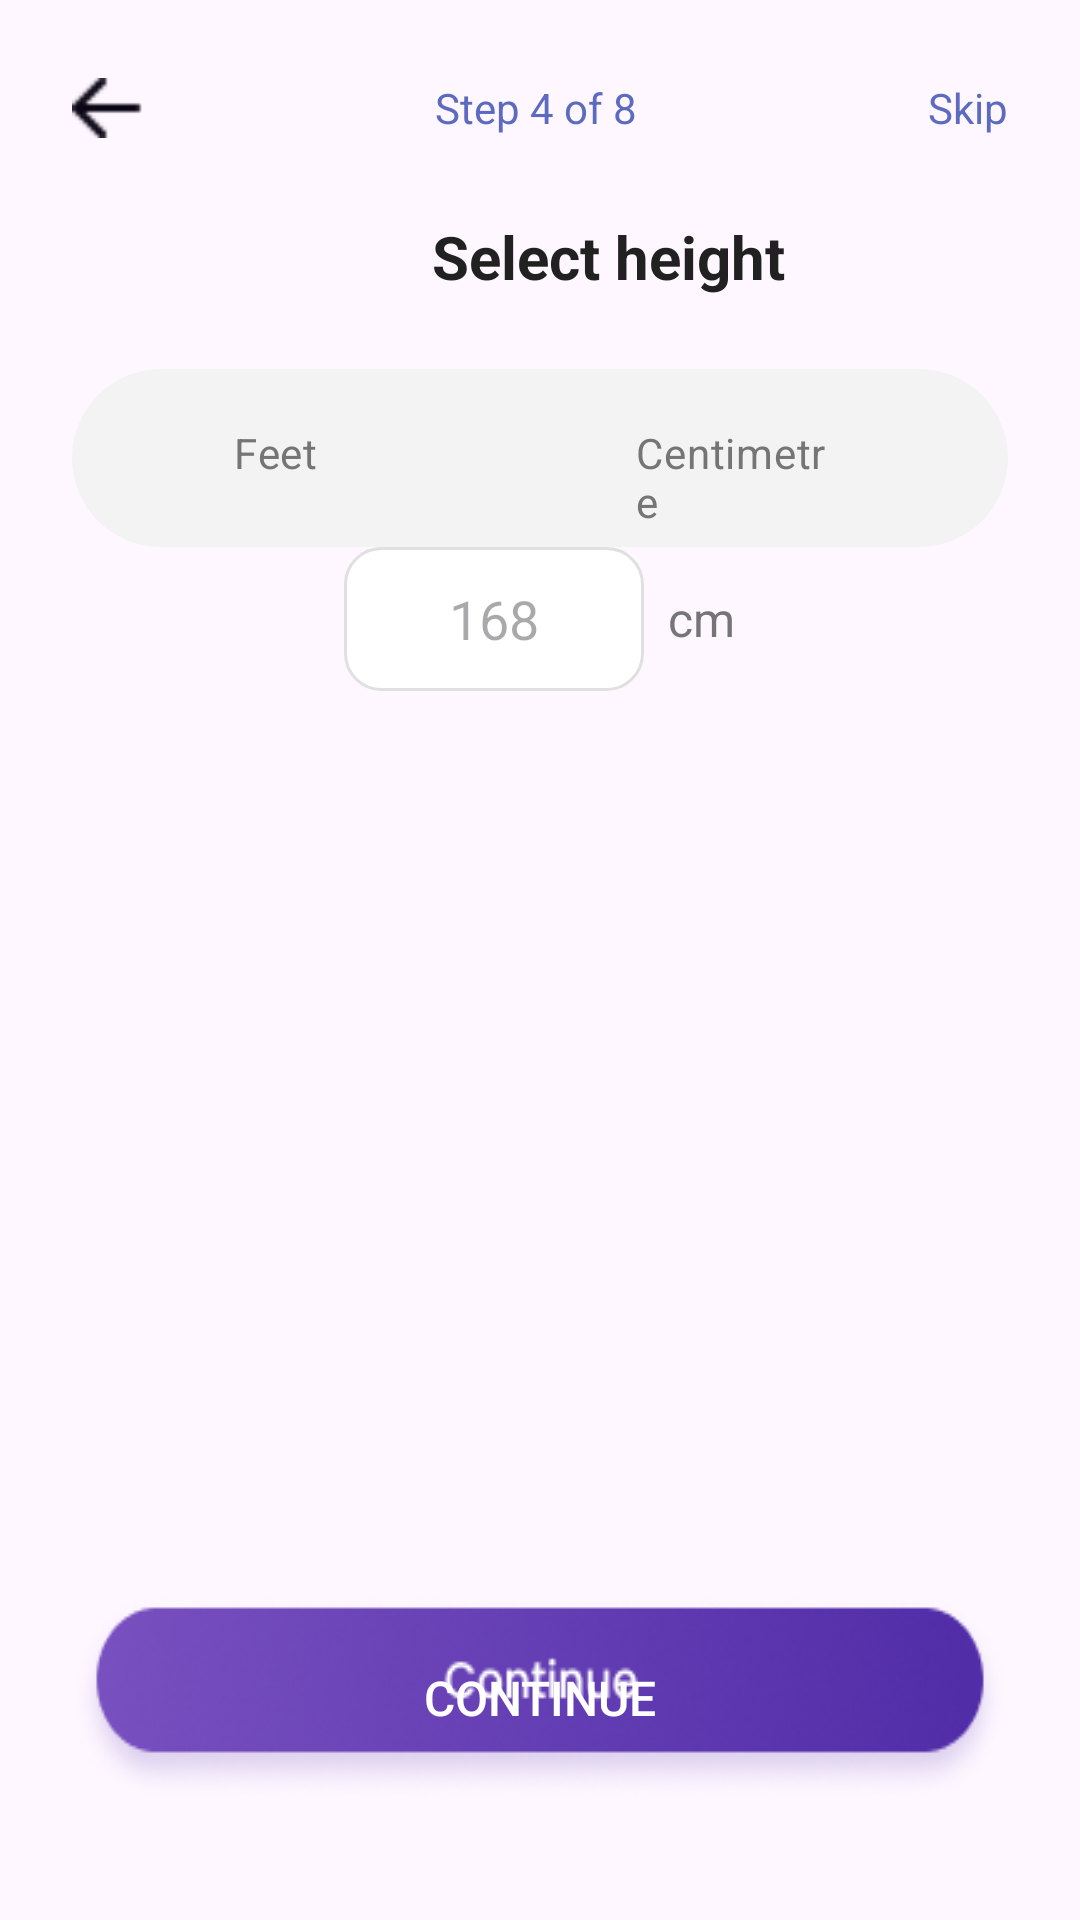

Named icons in this screenshot (1080 × 1920) and their centers, [x,y]:
Back: [107,108]
